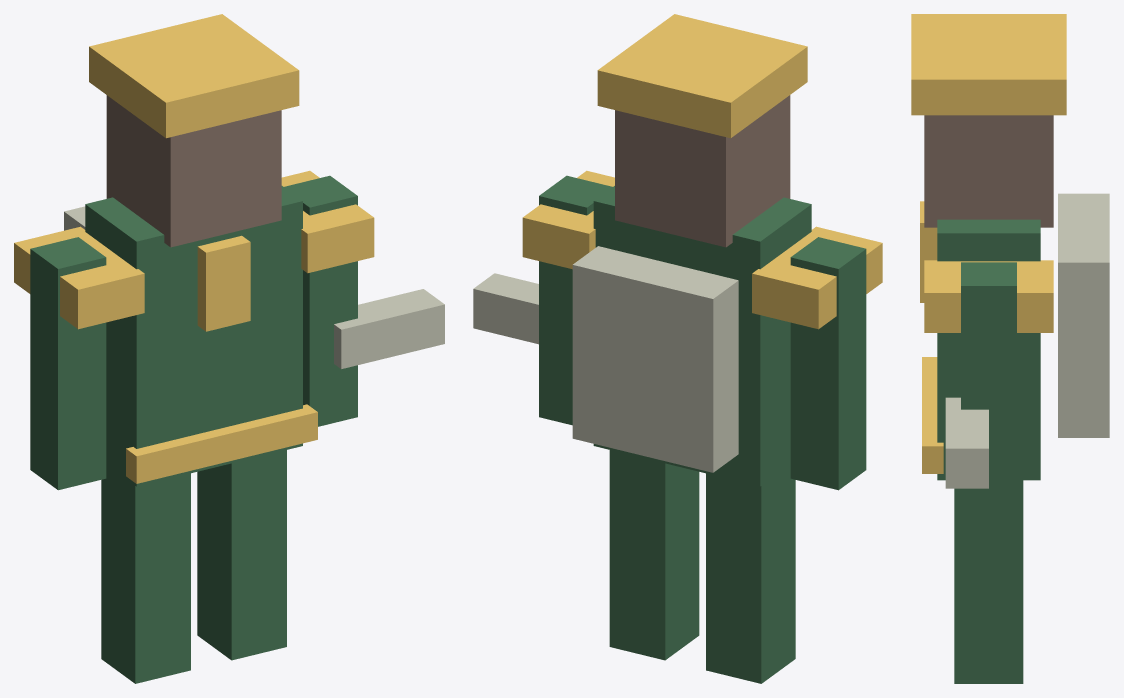
Rendered from 11_sarai_runeclasp_operator_at_adaptive.glb.
3 views of the same model, side by side, from view 1: azimuth 30°, elevation 25°; view 2: azimuth 150°, elevation 25°; view 3: azimuth 270°, elevation 25° (orthographic).
Parts seen in each view (by area): view 1: Sarai Runeclasp, Operator at Adaptive; view 2: Sarai Runeclasp, Operator at Adaptive; view 3: Sarai Runeclasp, Operator at Adaptive.
Part boxes in pixels (x1=…): Sarai Runeclasp, Operator at Adaptive: x1=14, y1=14, x2=444, y2=683; Sarai Runeclasp, Operator at Adaptive: x1=473, y1=14, x2=882, y2=683; Sarai Runeclasp, Operator at Adaptive: x1=911, y1=14, x2=1109, y2=683.
Bounding box in the file's own units: 1.07 × 1.6 × 0.4782.
